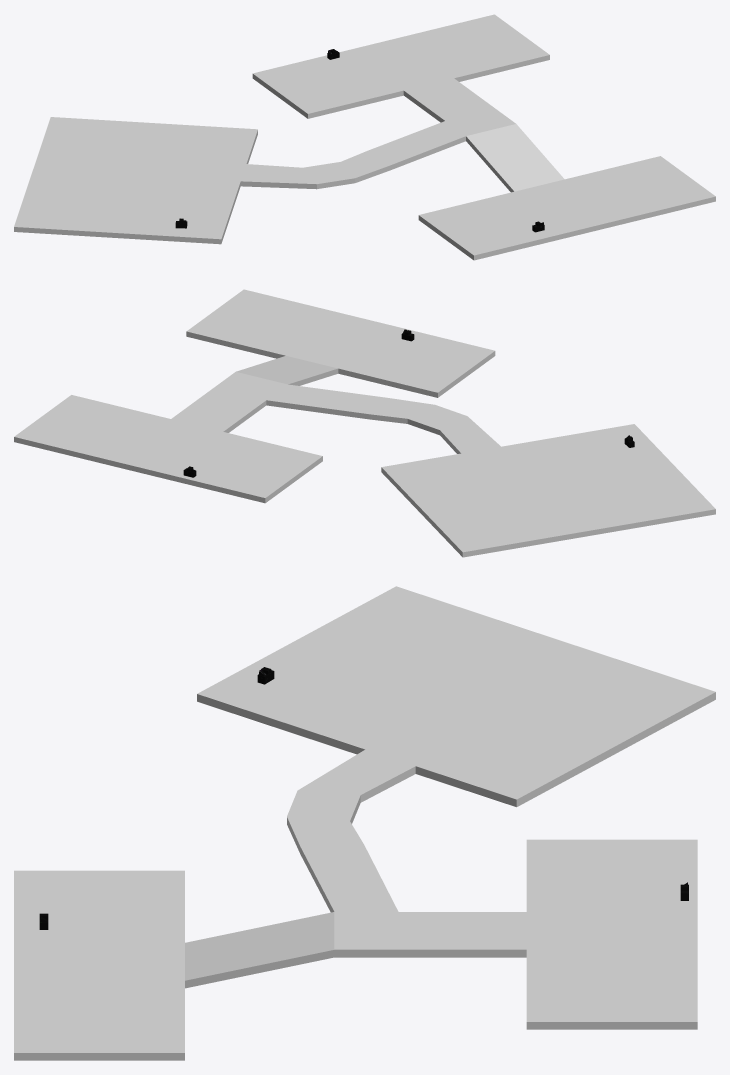
Rendered from lvl.glb.
The picture shows the model from 3 angles, top to bottom: view 1: azimuth 30°, elevation 25°; view 2: azimuth 150°, elevation 25°; view 3: azimuth 270°, elevation 25°; orthographic projection. The views are drawn at different scales.
Visible parts, largest first — view 1: tri0; view 2: tri0; view 3: tri0.
Boxes of the visible parts, x1,y1,x2,y2 form: tri0: [14, 14, 715, 260]; tri0: [14, 289, 715, 557]; tri0: [14, 586, 715, 1060].
Bounding box in the file's own units: 241 × 13.1 × 164.
2 materials, 1 textured.
